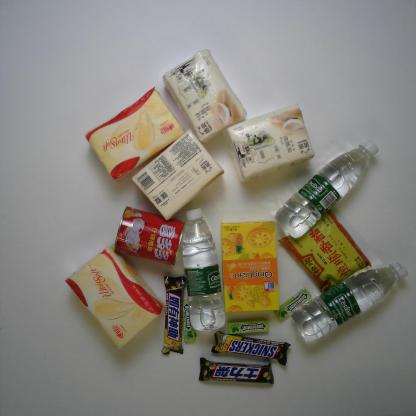Canned Food: (113, 206, 186, 267)
Chocolate: (210, 330, 291, 367), (198, 356, 274, 386), (161, 275, 187, 356)
Dessert: (219, 220, 281, 313)
Drink: (272, 137, 380, 240), (289, 260, 409, 344), (181, 206, 227, 332)
Gum: (273, 286, 313, 322), (180, 299, 197, 342), (227, 319, 270, 336)
Seasoner: (277, 208, 373, 294)
Tissue: (64, 243, 166, 352), (84, 86, 186, 182), (130, 128, 226, 222), (161, 49, 248, 144), (221, 102, 316, 184)
